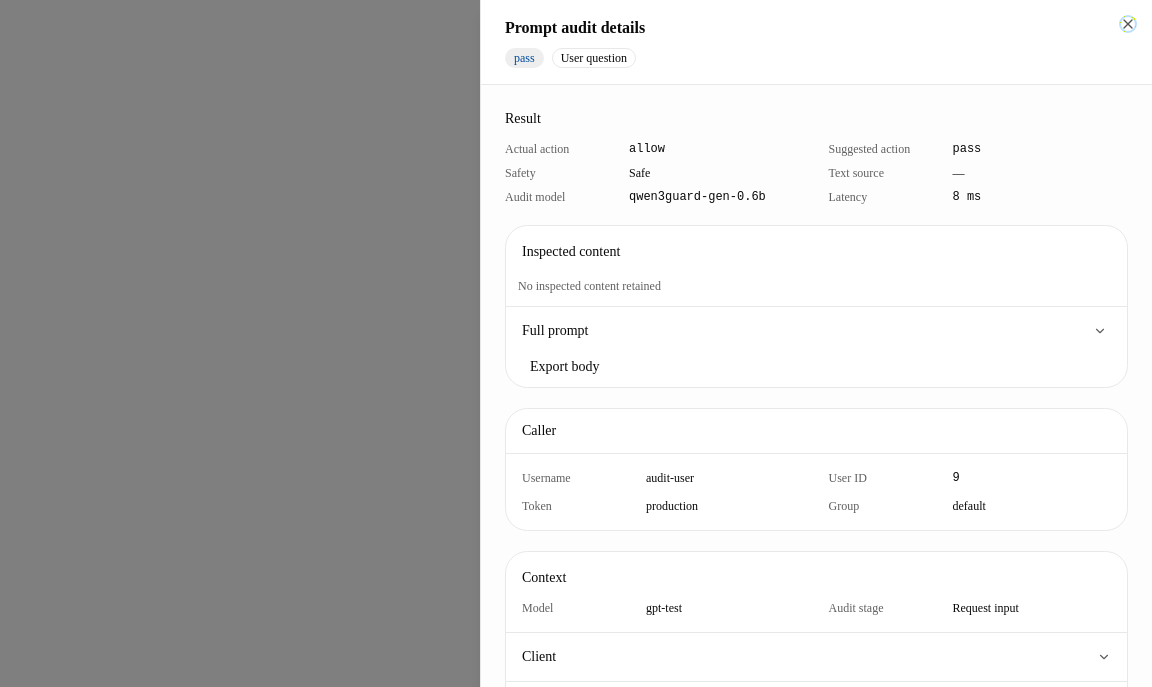
Test: prompt audit management components › shows the retained full prompt to an administrator with permission
The image size is (1152, 687).
Expected: the text "raw-secret-prompt" is not shown
What coordinates should you click on to do the following:
click the button "Full prompt"
I would click on:
 (555, 330)
Its box is [518,311,1111,351].
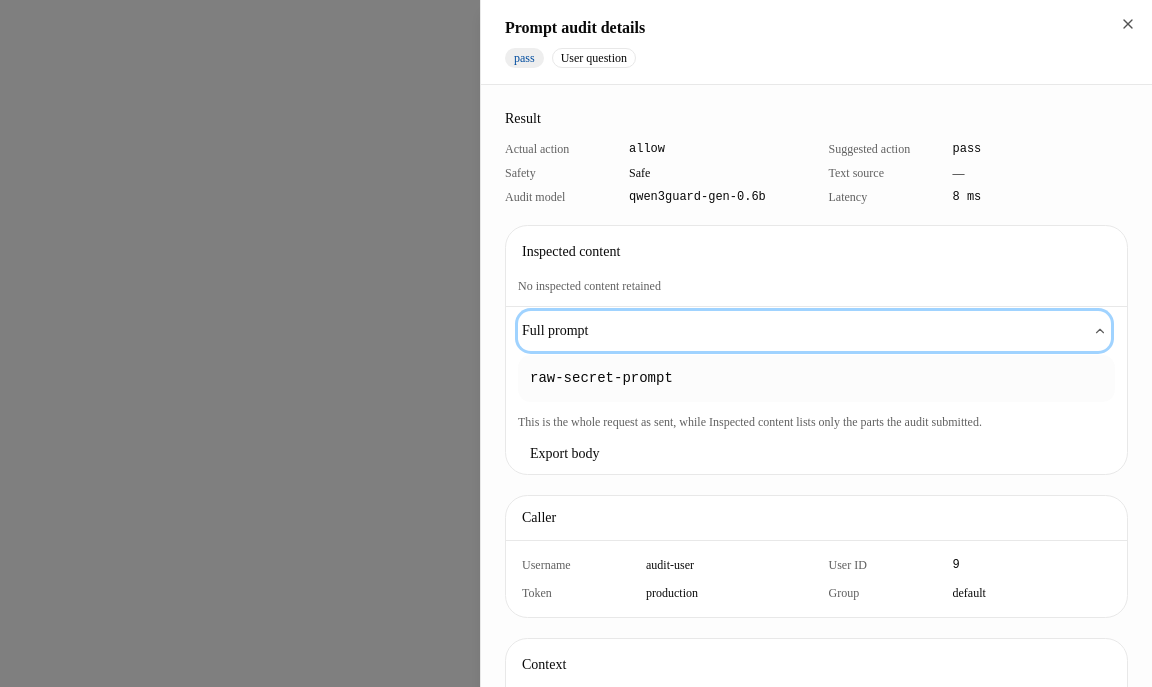
Expected: the text "raw-secret-prompt" is shown, [518,355,1115,402]
